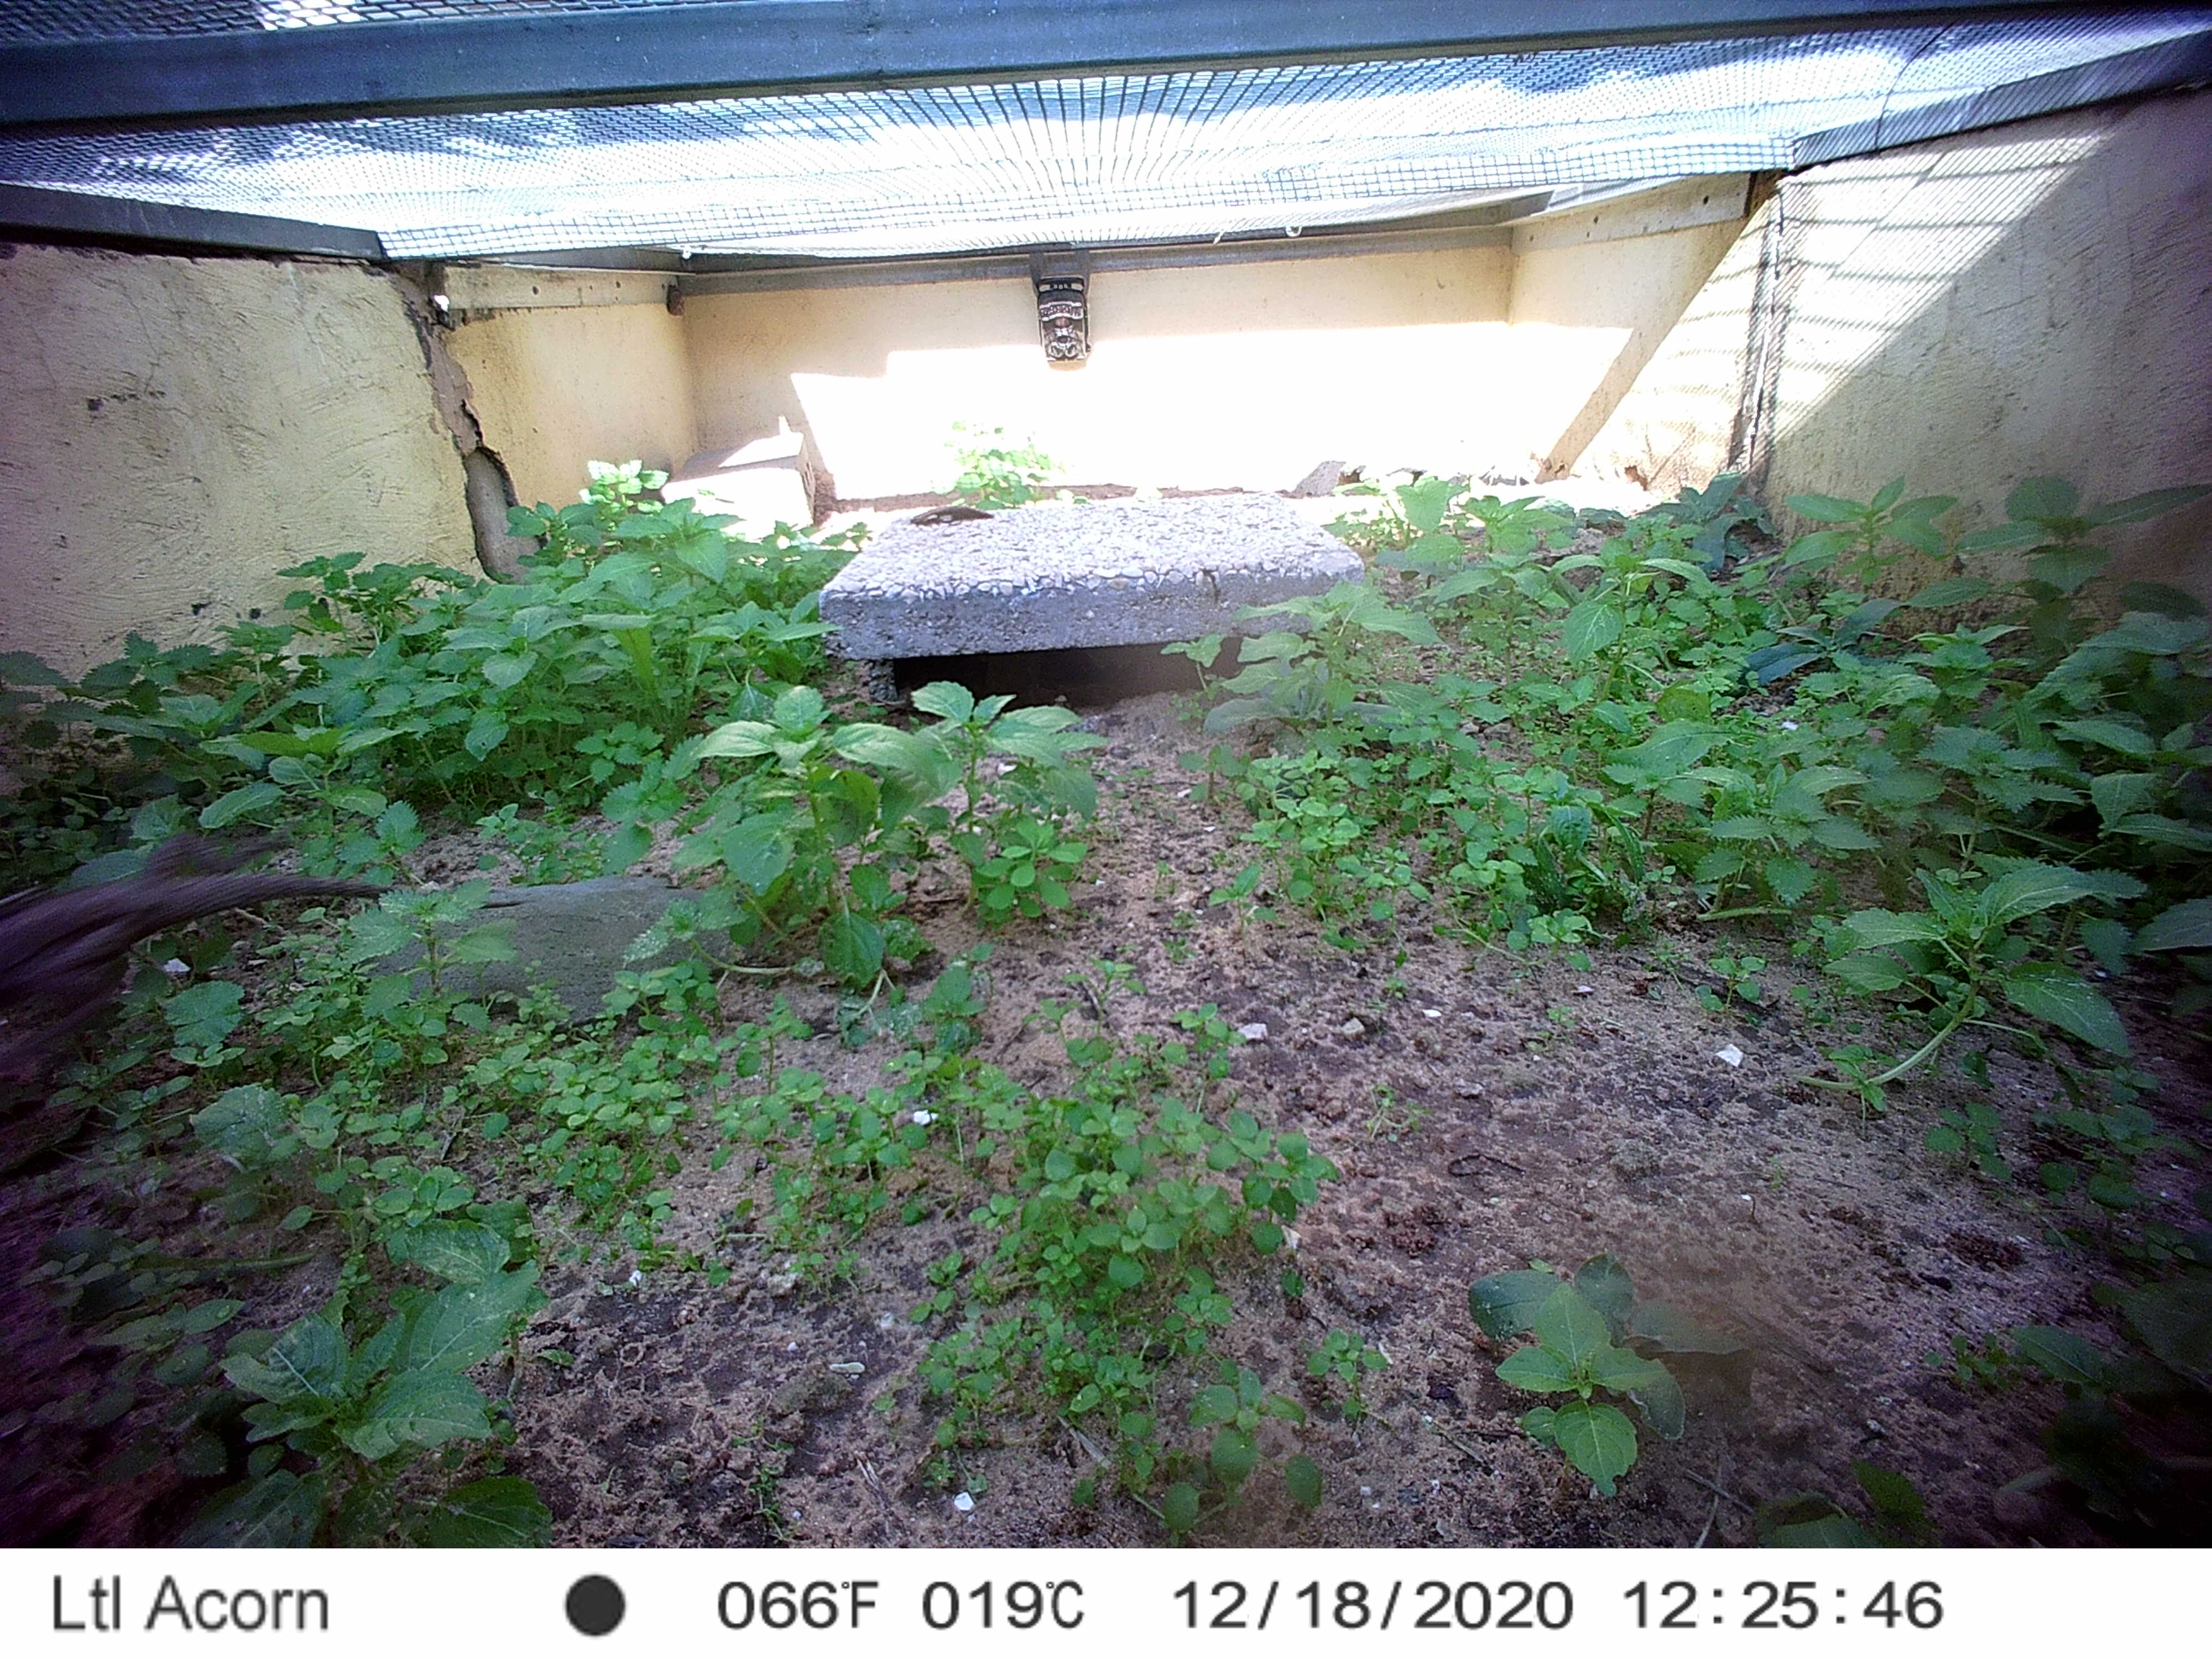lizard: (0, 828, 404, 1077)
